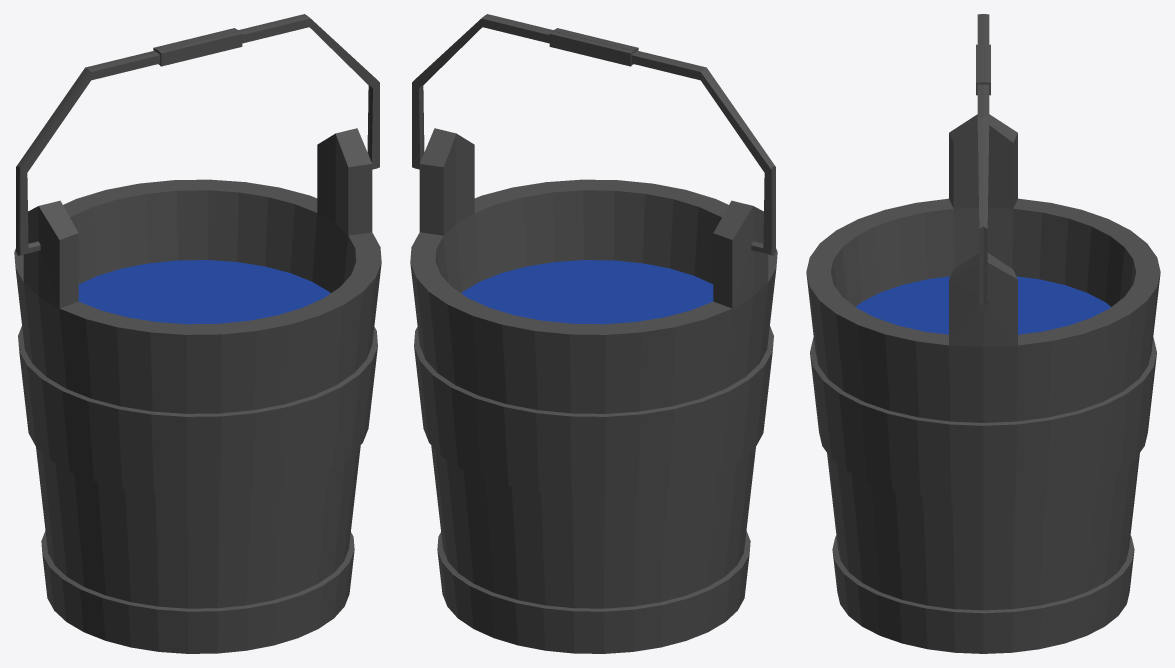
File: Seau.fbx
3 renders of one model, left to right at view 1: azimuth 30°, elevation 25°; view 2: azimuth 150°, elevation 25°; view 3: azimuth 270°, elevation 25°, orthographic. The views are drawn at different scales.
Visible parts, largest first — view 1: Cylindre; view 2: Cylindre; view 3: Cylindre.
Boxes of the visible parts, left/top/right/bottom form: Cylindre: left=14, top=14, right=381, bottom=653; Cylindre: left=410, top=14, right=777, bottom=653; Cylindre: left=806, top=14, right=1160, bottom=653.
Bounding box in the file's own units: 226 × 329 × 200.
